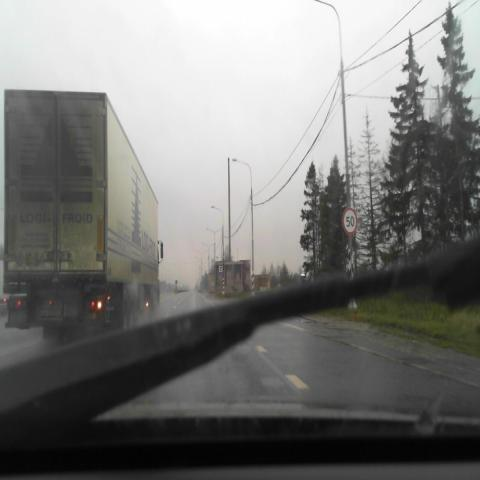3_24: (342, 207, 358, 235)
